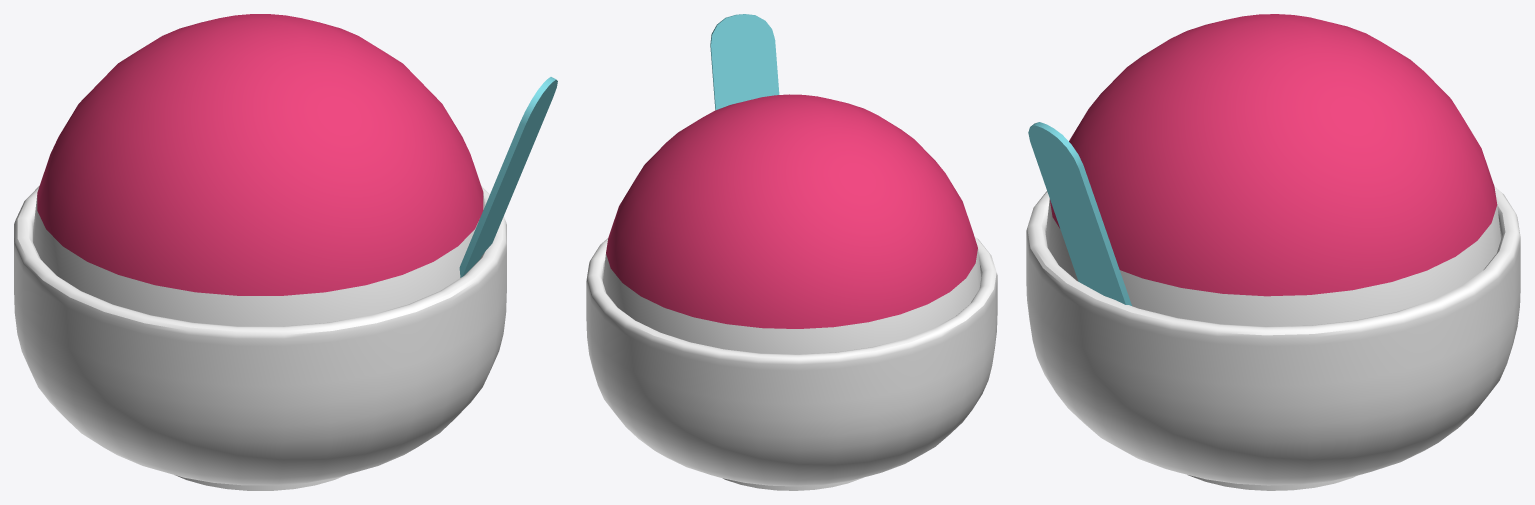
File: shaved_ice.glb
3 renders of one model, left to right at view 1: azimuth 30°, elevation 25°; view 2: azimuth 150°, elevation 25°; view 3: azimuth 270°, elevation 25°, orthographic. The views are drawn at different scales.
Visible parts, largest first — view 1: Cube.435; view 2: Cube.435; view 3: Cube.435.
Part boxes in pixels (bbox=[...]): Cube.435: bbox=[14, 14, 557, 490]; Cube.435: bbox=[586, 14, 997, 490]; Cube.435: bbox=[1026, 14, 1520, 490].
Bounding box in the file's own units: 2.21 × 2 × 2.21.
Materials: 1 (1 with a texture image).
